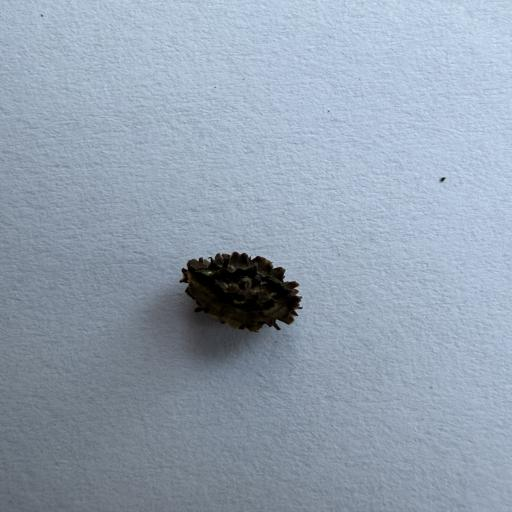papaya_seed: (161, 219, 317, 347)
